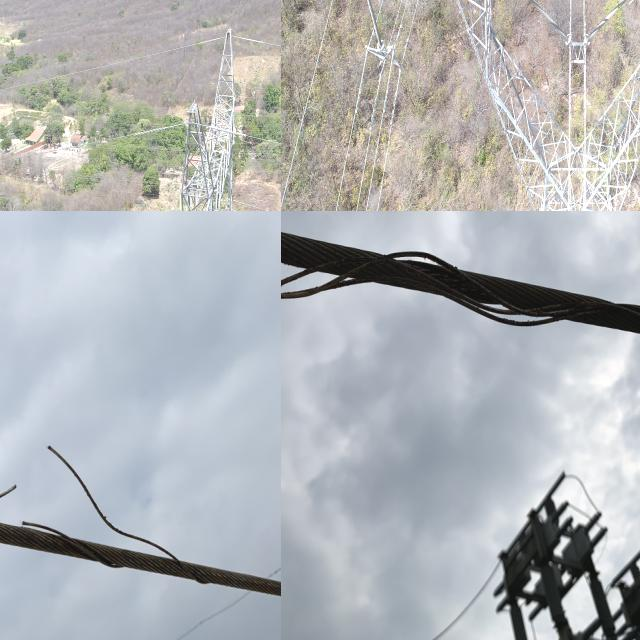杆塔: (343, 0, 640, 211), (172, 17, 252, 211)
正常绝缘子: (523, 0, 573, 49), (583, 0, 634, 48), (364, 0, 388, 57)
电缆破损: (281, 228, 591, 340), (0, 427, 202, 595)
